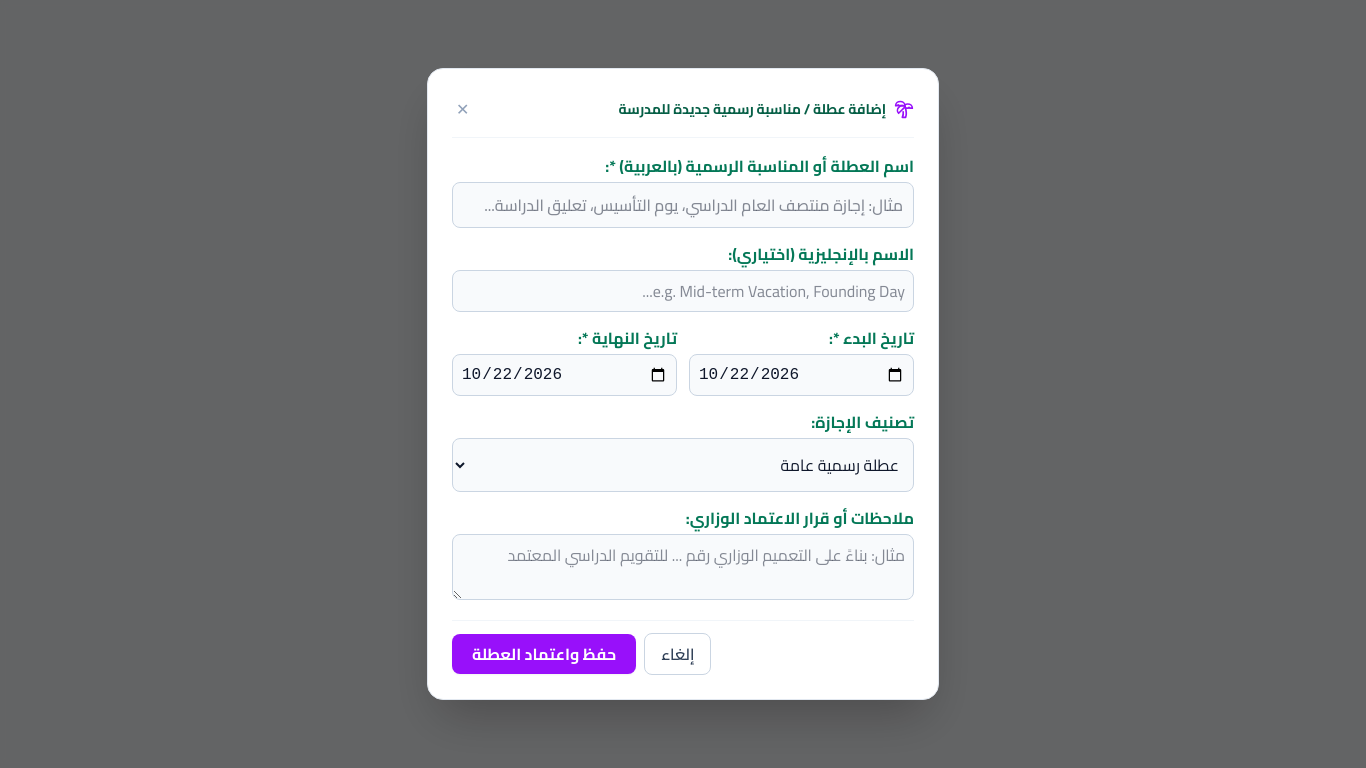
Test case: AddHolidayModal › rejects an end date before the start date
The image size is (1366, 768).
Replace the text in the 1st field with "عطلة" at x=683, y=205, box [452,182,914,228]
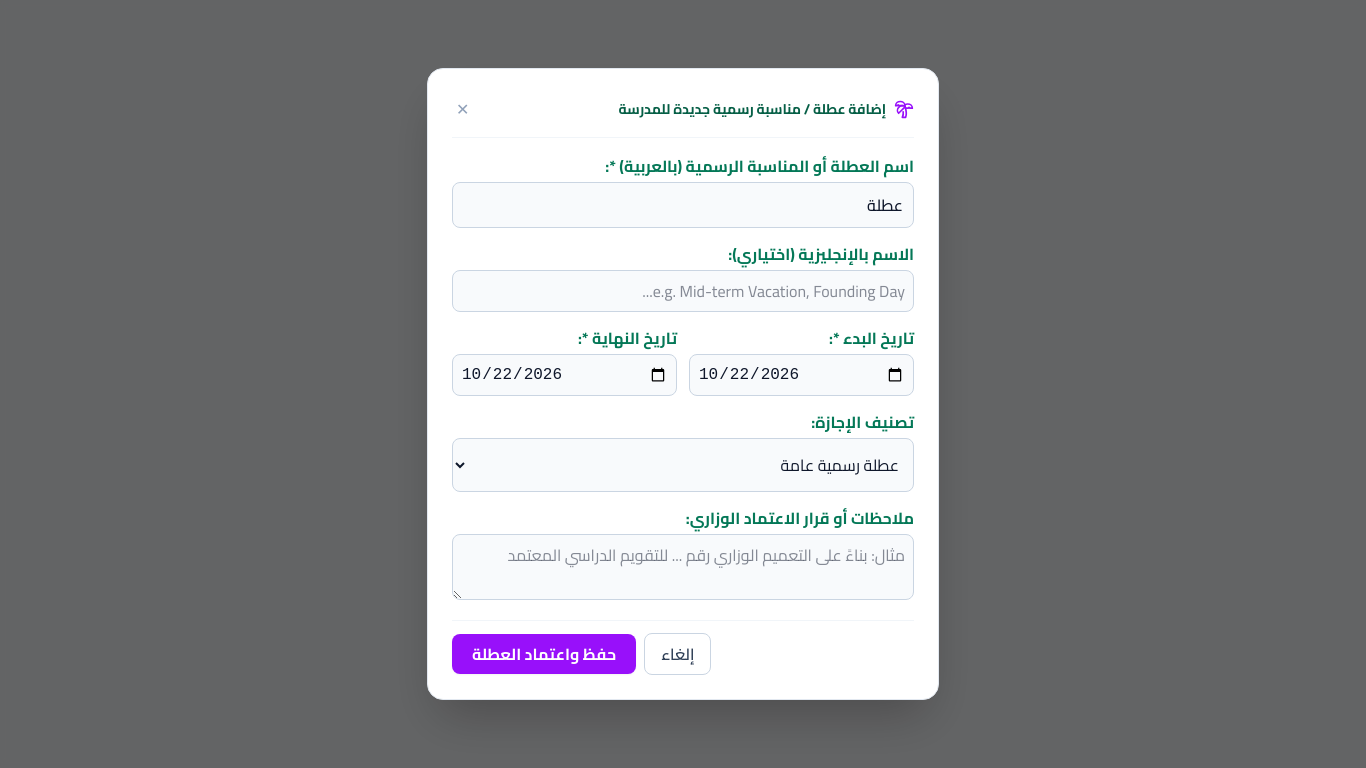
Type "2026-03-10" into the date field below "تاريخ البدء *:".
click(802, 375); type("2026-03-10")  # box [689,354,914,396]
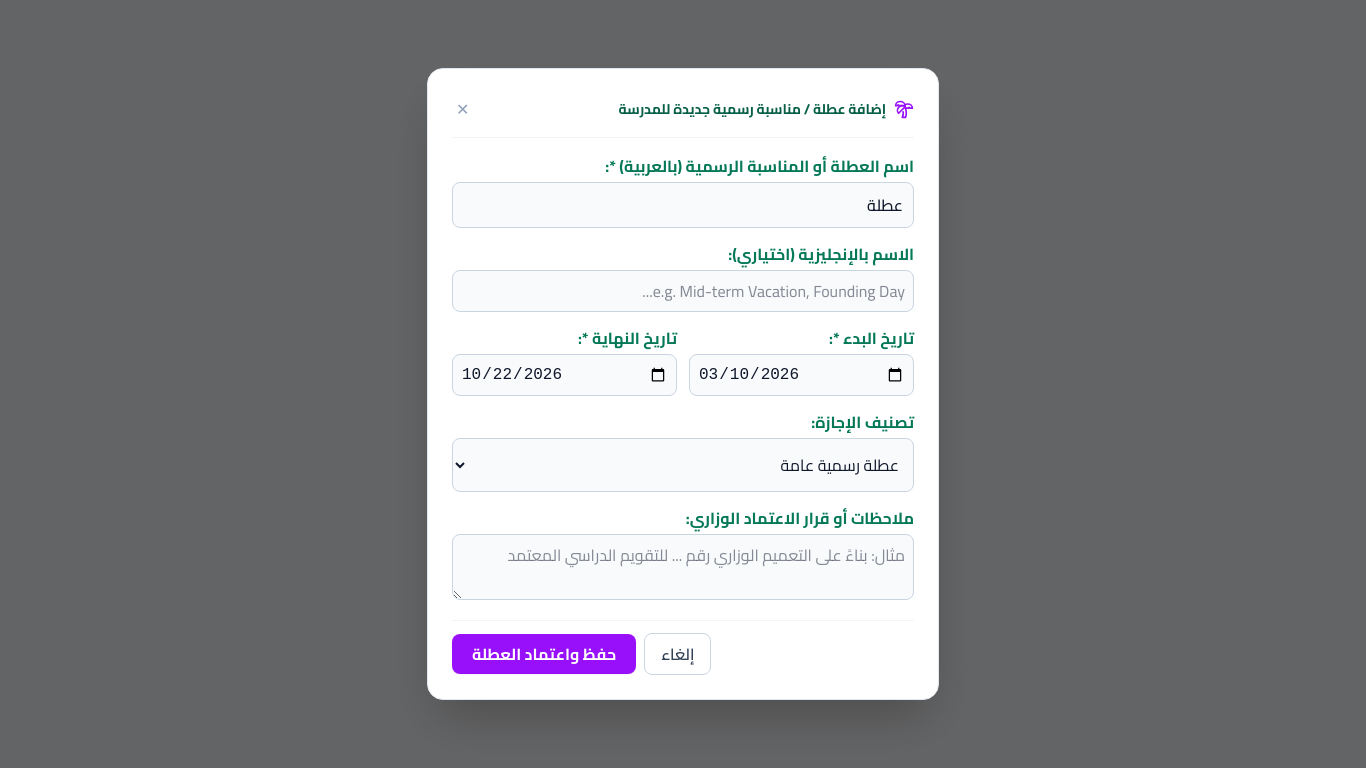
Type "2026-03-01" into the date field below "تاريخ النهاية *:".
click(564, 375); type("2026-03-01")  # box [452,354,677,396]
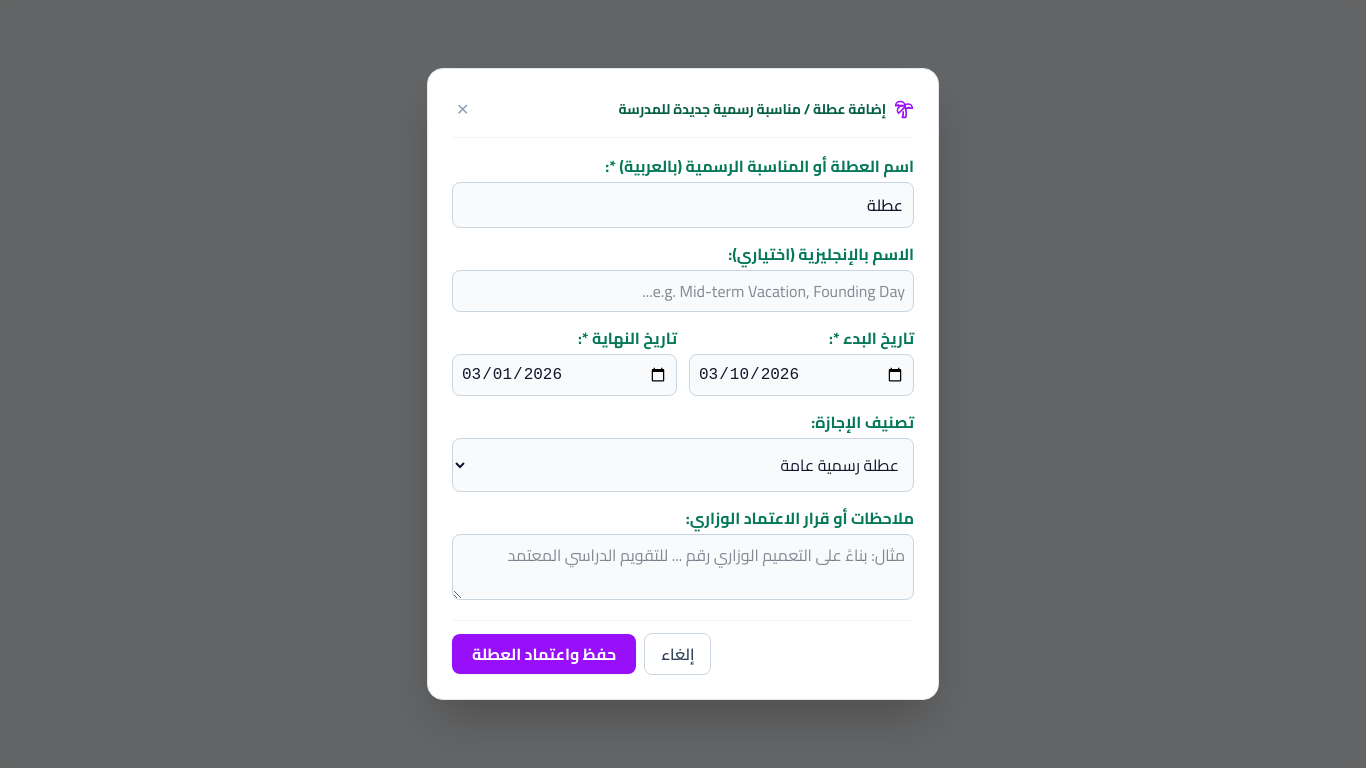
Click the button "حفظ واعتماد العطلة".
click(544, 654)  # box [452,634,636,674]
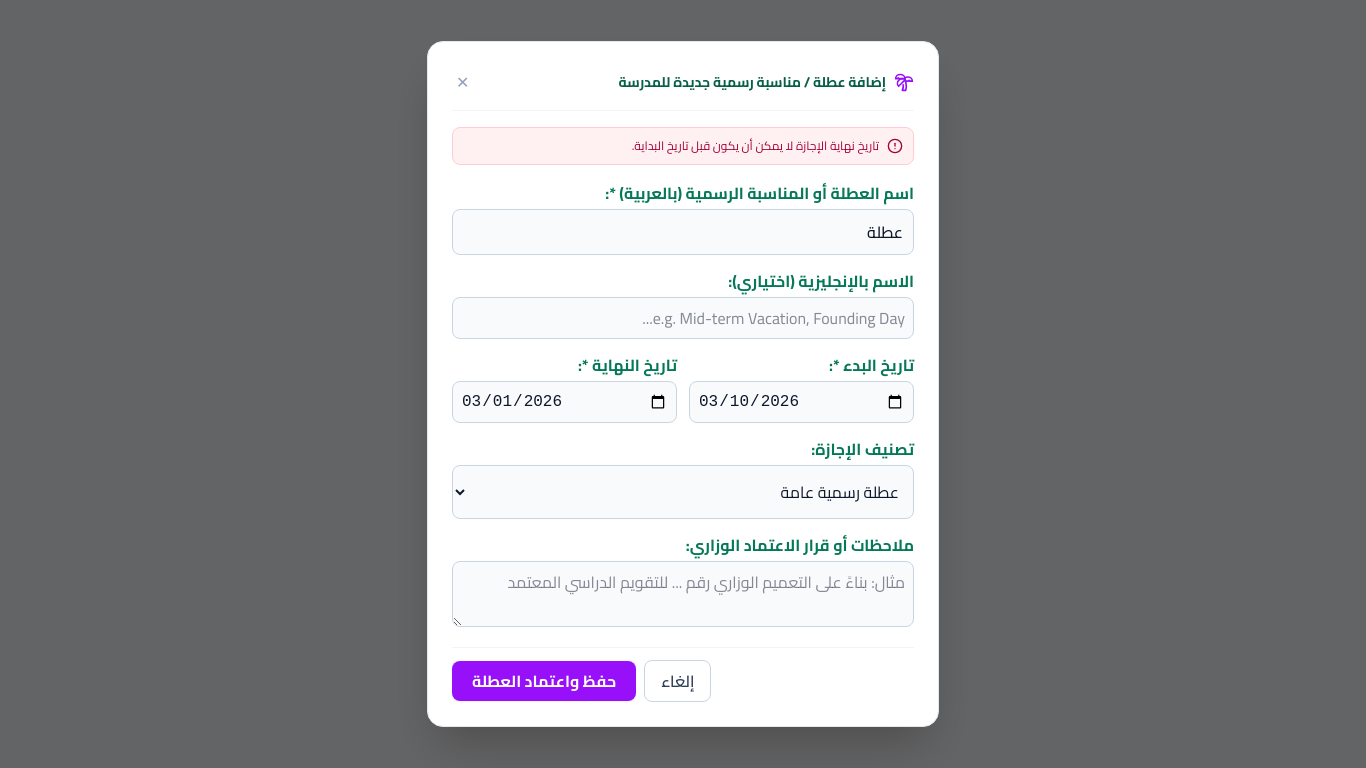
Result: the text "تاريخ نهاية الإجازة لا يمكن أن يكون قبل تاريخ البداية." is shown at [632,138,879,154]
